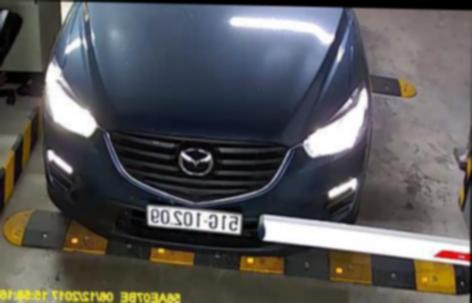License_Plate: (142, 204, 245, 234)
